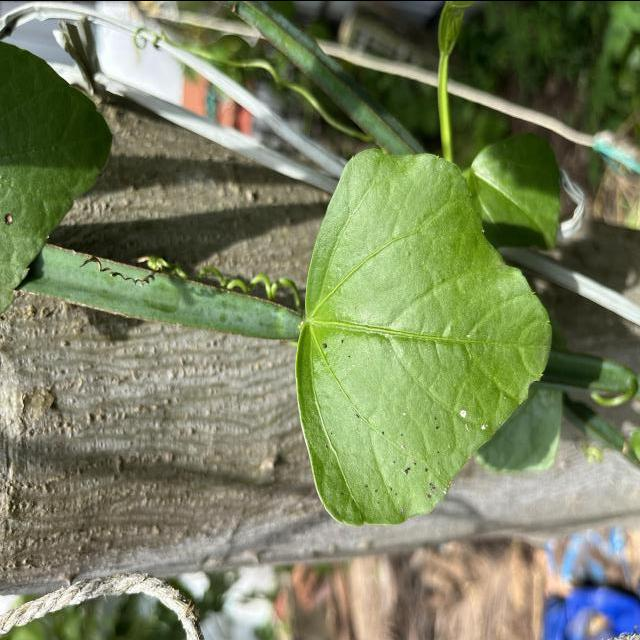Cissus quadrangularis: (291, 138, 556, 530)
